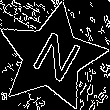N_SW: (21, 25, 82, 89)
